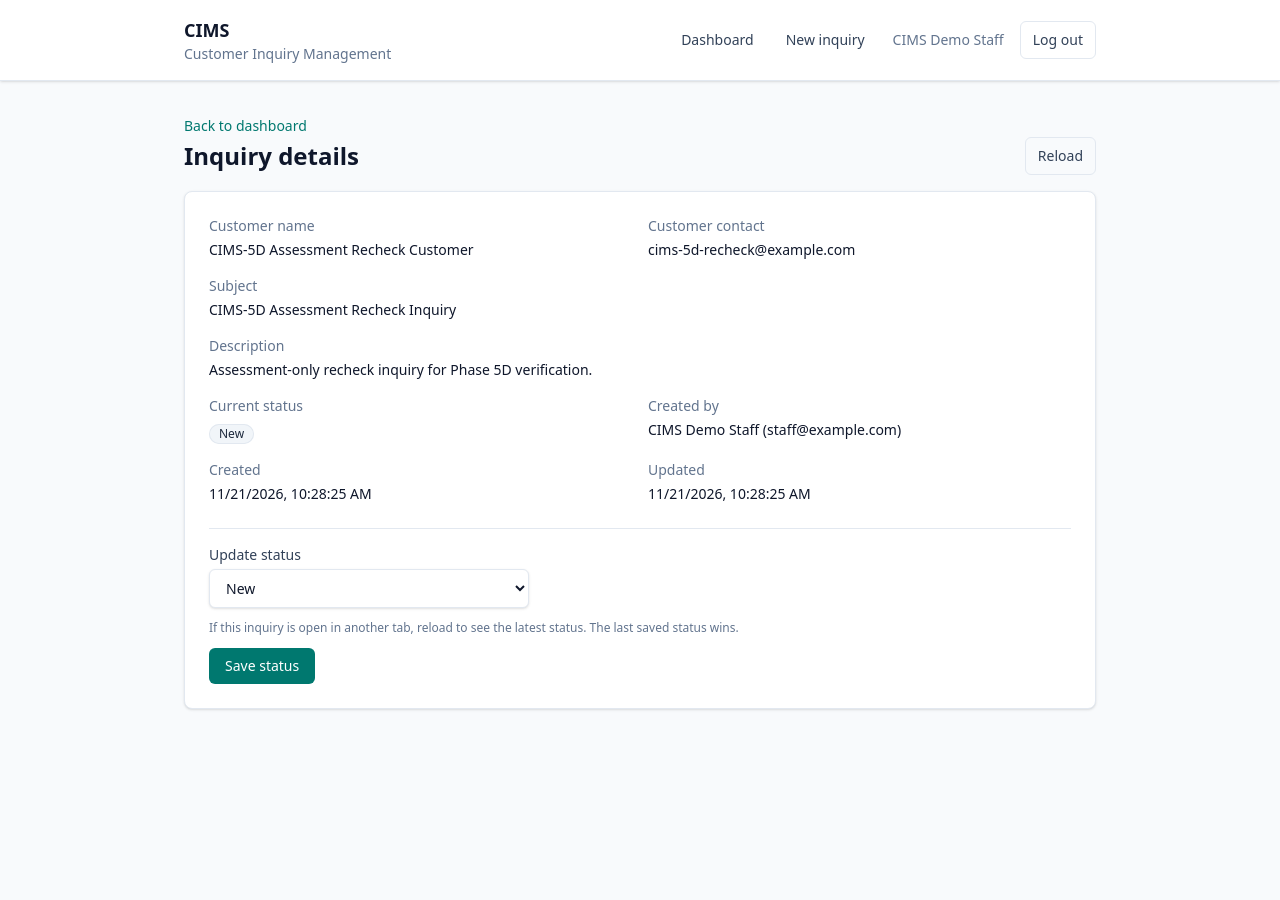
Scenario: Inquiry details › shows an error when a status save fails
Expected: the dropdown labelled "Update status" is shown, top-left (209, 569), bottom-right (529, 608)
Click the button "Save status": coordinates (262, 666) top-left (209, 648), bottom-right (315, 684)
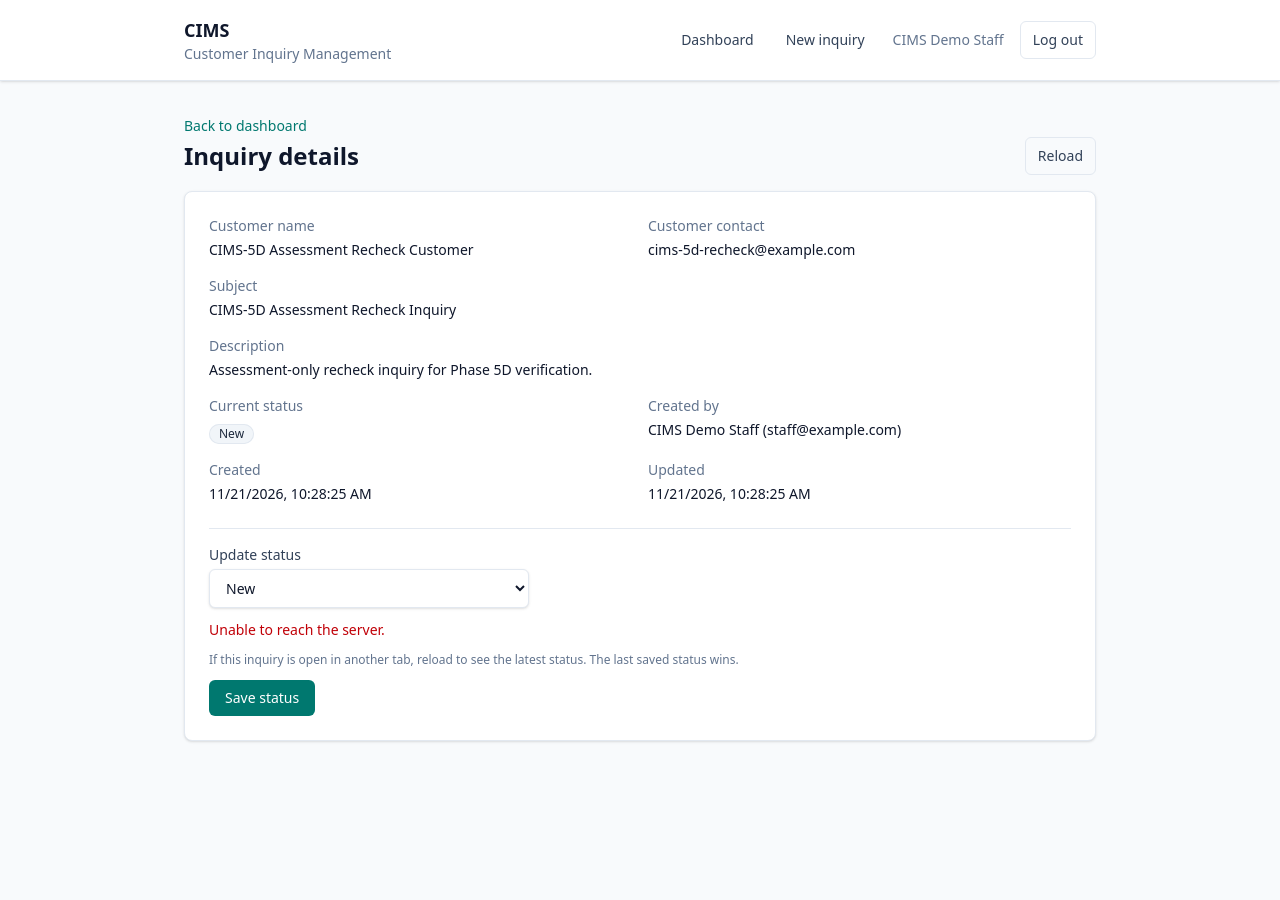
Expected: the message reads "Unable to reach the server.", top-left (209, 620), bottom-right (385, 639)
